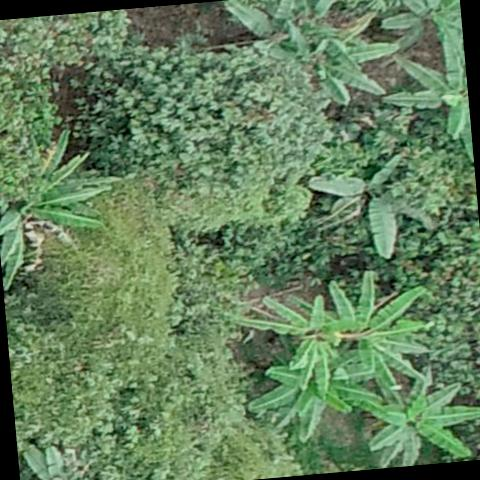Banana-plant: (0, 130, 118, 292), (314, 269, 439, 384), (309, 154, 438, 262), (247, 346, 383, 444), (356, 366, 480, 470), (258, 289, 364, 397)
